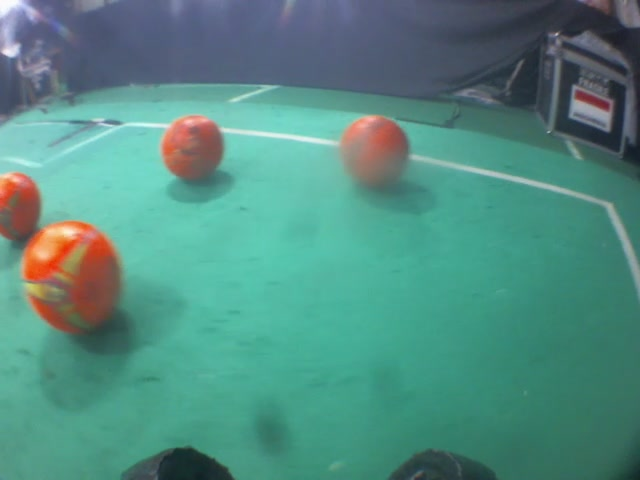ball: (17, 214, 126, 342), (335, 110, 414, 193), (155, 113, 231, 187), (1, 155, 44, 240)
